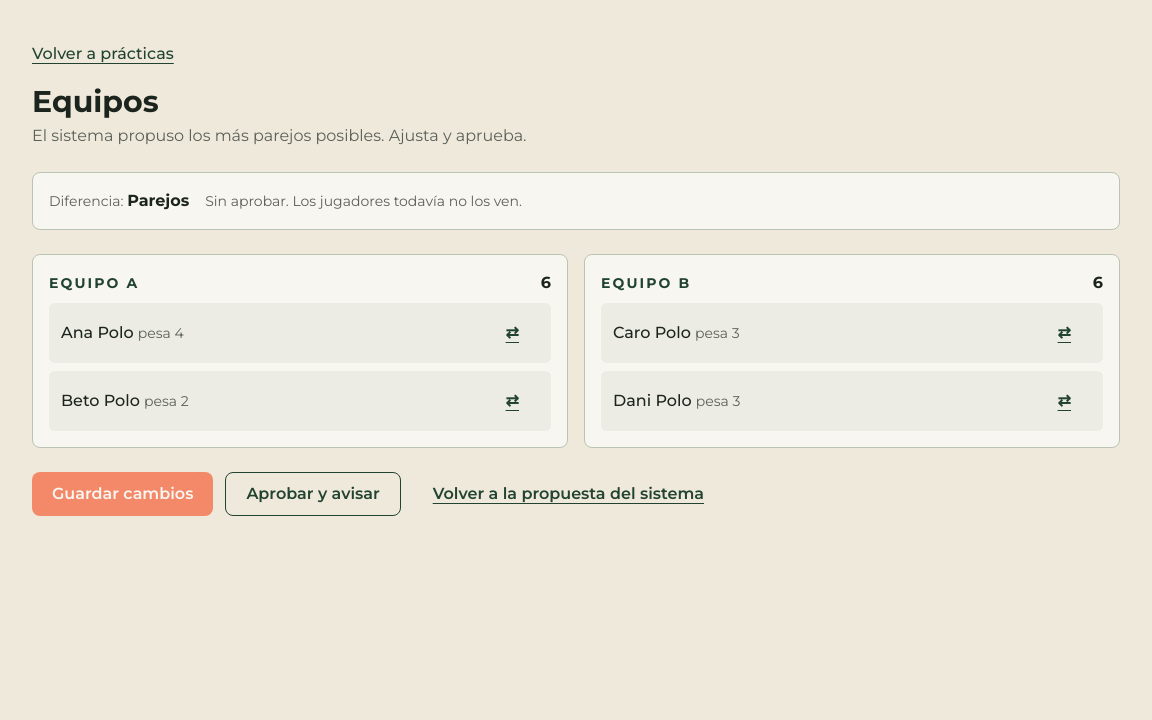
La pantalla del comisario (T-630) › **mover un jugador cambia la diferencia SIN ir al servidor**
Check: the text "Parejos" is shown, box [127,191,189,210]
Click the button "⇄" in the row of "Ana Polo".
click(512, 333)  # box [486,311,539,355]
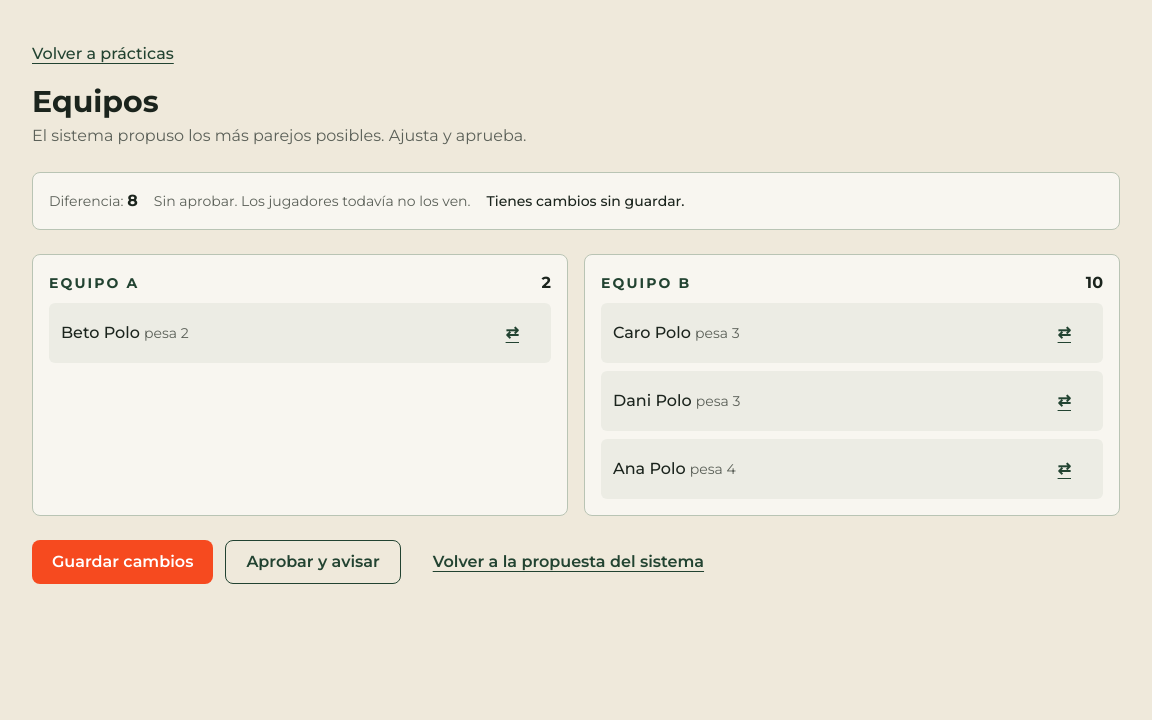
Check: the text "8" is shown, box [127,191,138,210]
